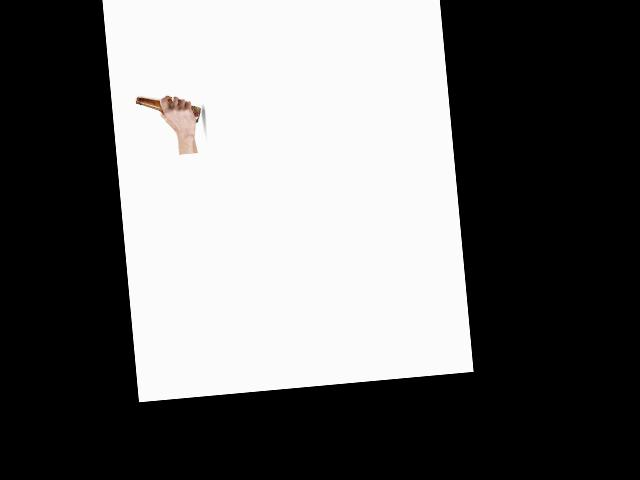beer: (136, 91, 203, 128)
